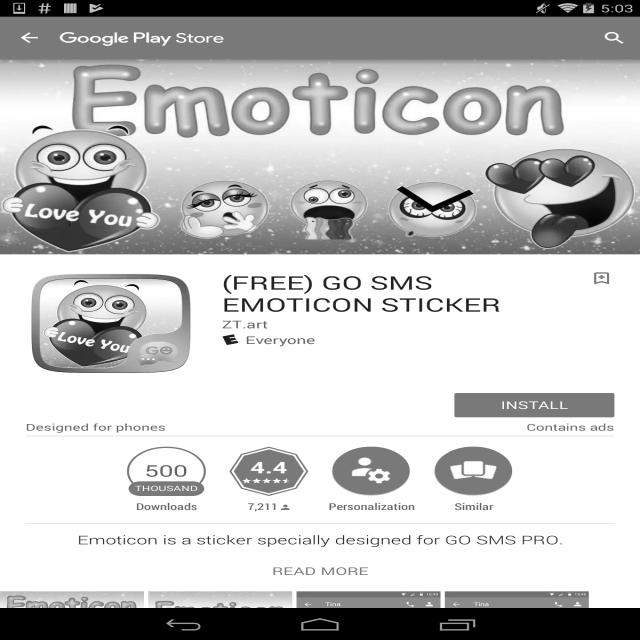Button: (222, 447, 316, 512), (324, 447, 418, 512), (426, 447, 520, 512), (454, 393, 614, 417)
ImageButton: (0, 17, 60, 59)
ImageView: (0, 59, 640, 254), (26, 270, 196, 377), (296, 591, 441, 640), (0, 591, 144, 640), (148, 591, 292, 640), (445, 591, 589, 640), (332, 447, 411, 496), (434, 447, 513, 496), (60, 30, 224, 46), (589, 270, 614, 286), (222, 334, 239, 345), (281, 505, 290, 510)
TextView: (0, 531, 640, 560), (222, 270, 589, 317), (0, 560, 640, 578), (25, 421, 166, 433), (589, 22, 640, 54), (324, 496, 418, 513), (426, 496, 520, 513), (120, 496, 213, 513), (526, 421, 614, 433), (245, 333, 316, 347), (144, 462, 188, 481), (250, 456, 288, 478), (222, 317, 268, 331), (133, 484, 200, 493), (247, 496, 278, 513)
